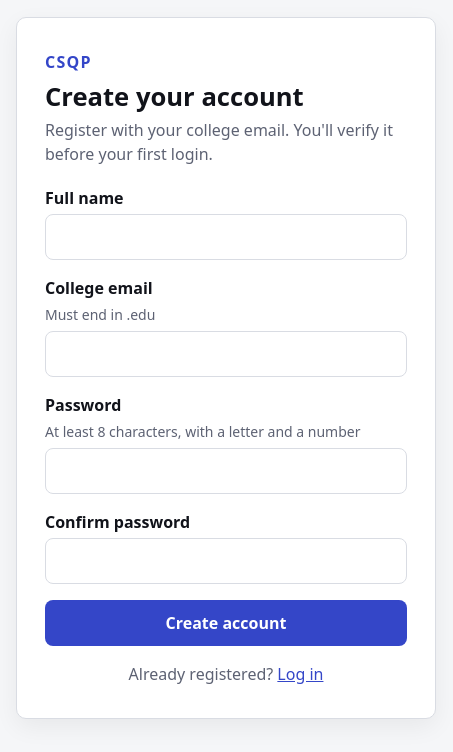
Test: RegisterPage › rejects a non-college email (TC-Auth-01)
Type "Asha Rao" into the field labelled "Full name" at [226, 237], box [45,214,407,260]
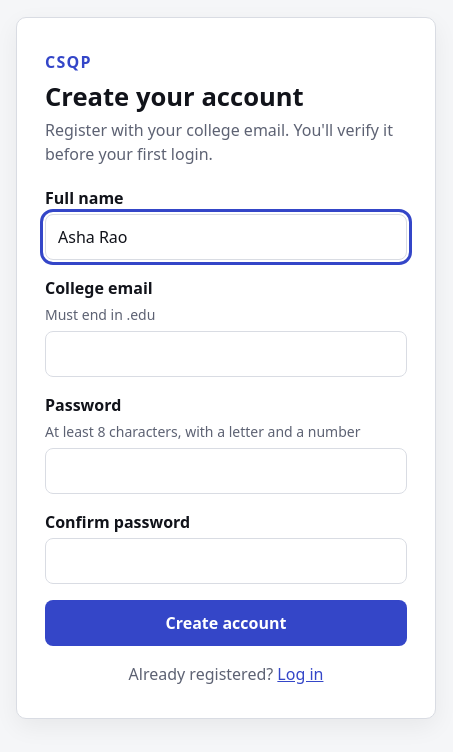
Type "asha@gmail.com" into the field labelled "College email" at [226, 354], box [45,331,407,377]
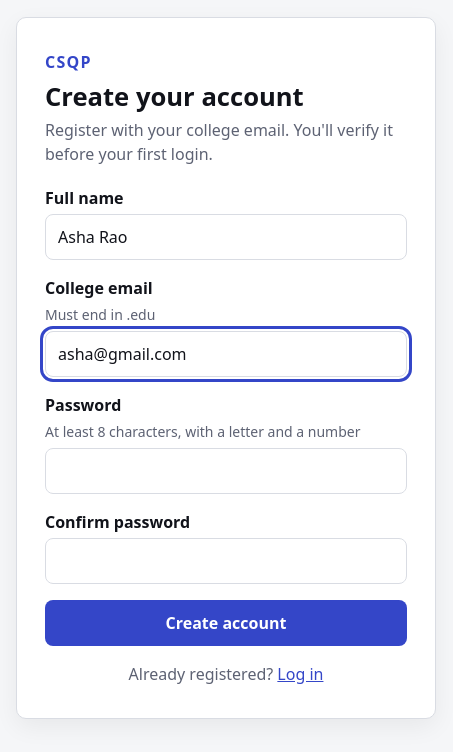
Type "Password1" into the password field labelled "Password" at [226, 471], box [45,448,407,494]
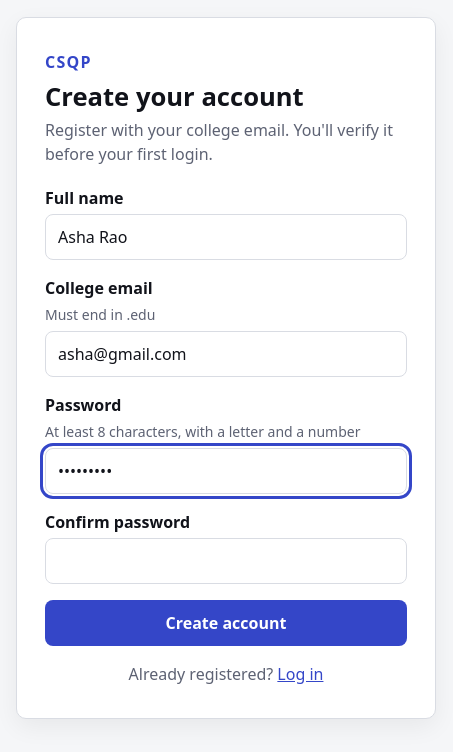
Type "Password1" into the password field labelled "Confirm password" at [226, 561], box [45,538,407,584]
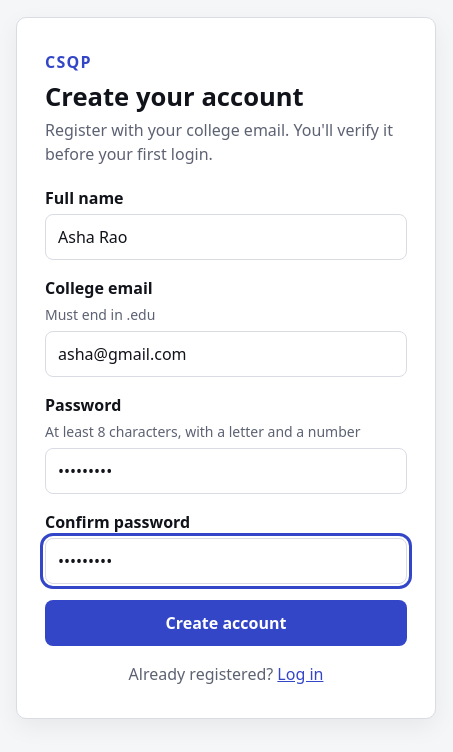
Click the button "Create account" at [226, 623], box [45,600,407,646]
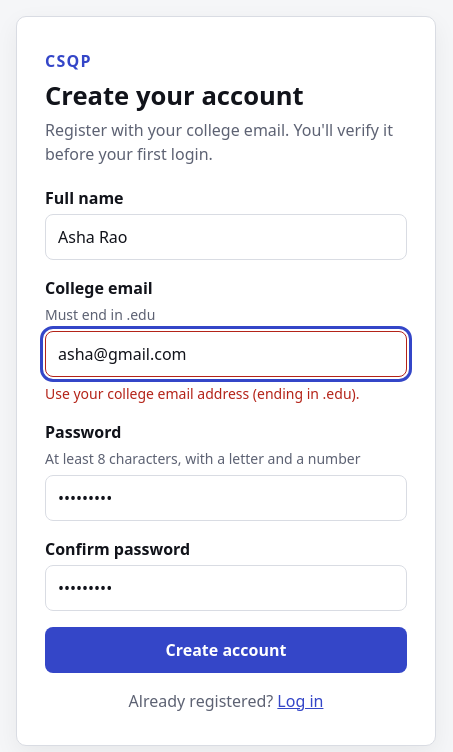
Check: the text "Use your college email address (ending in .edu)." is shown, box [45,383,407,404]
